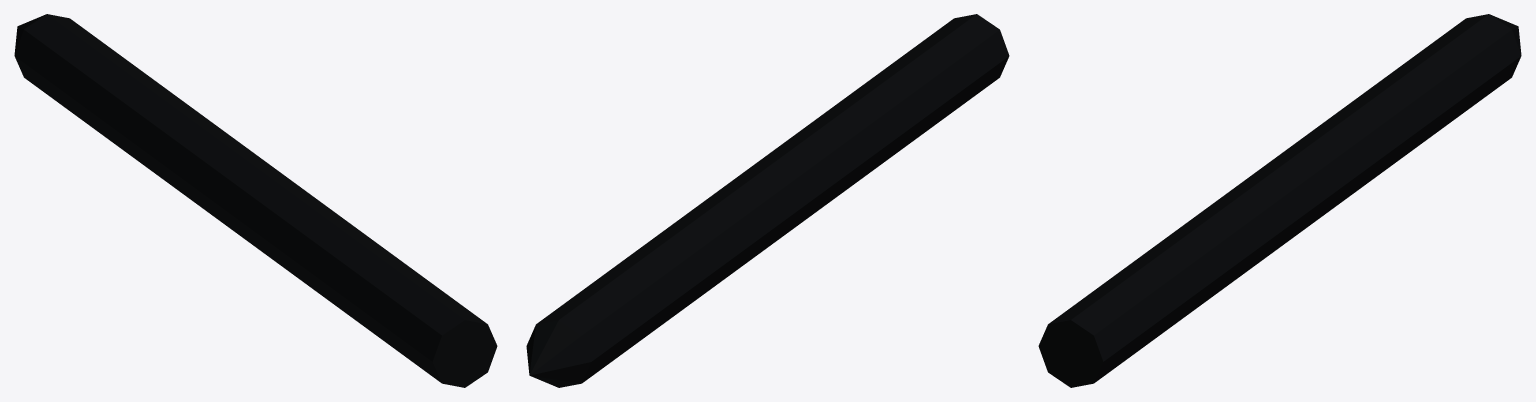
File: Rocket70Seven__Round_02.obj
3 renders of one model, left to right at view 1: azimuth 30°, elevation 25°; view 2: azimuth 150°, elevation 25°; view 3: azimuth 330°, elevation 25°, orthographic.
Parts seen in each view (by area): view 1: Round_02; view 2: Round_02; view 3: Round_02.
Boxes of the visible parts, bbox=[...] form: Round_02: bbox=[14, 14, 497, 387]; Round_02: bbox=[526, 14, 1009, 387]; Round_02: bbox=[1038, 14, 1521, 387].
Bounding box in the file's own units: 0.0825 × 0.0825 × 0.985.
